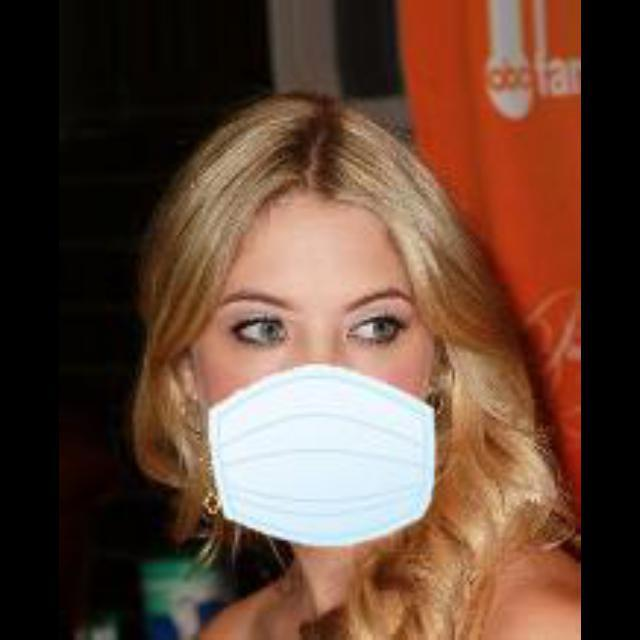suspicion: (128, 61, 468, 557)
